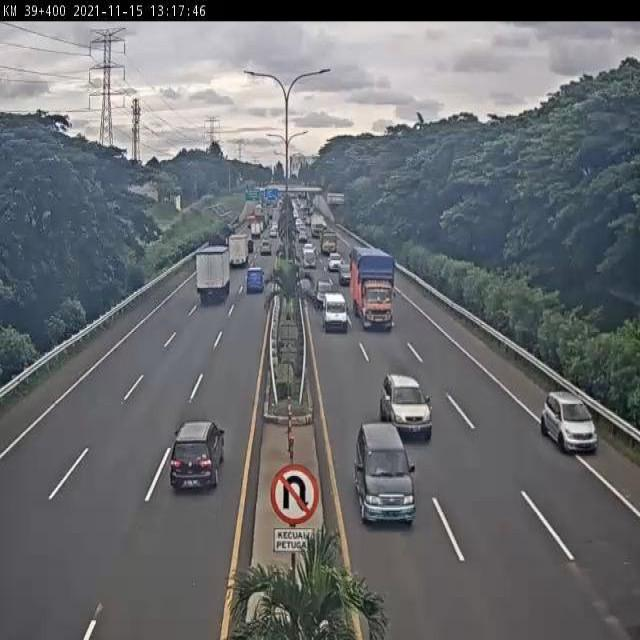car: (355, 420, 417, 525), (168, 420, 225, 495), (539, 387, 599, 453), (379, 373, 434, 440), (323, 292, 352, 336), (243, 265, 266, 296), (315, 278, 339, 306), (337, 260, 356, 285)
truck-l-: (350, 244, 395, 331)
truck-m-: (196, 247, 232, 300), (227, 231, 251, 272)
